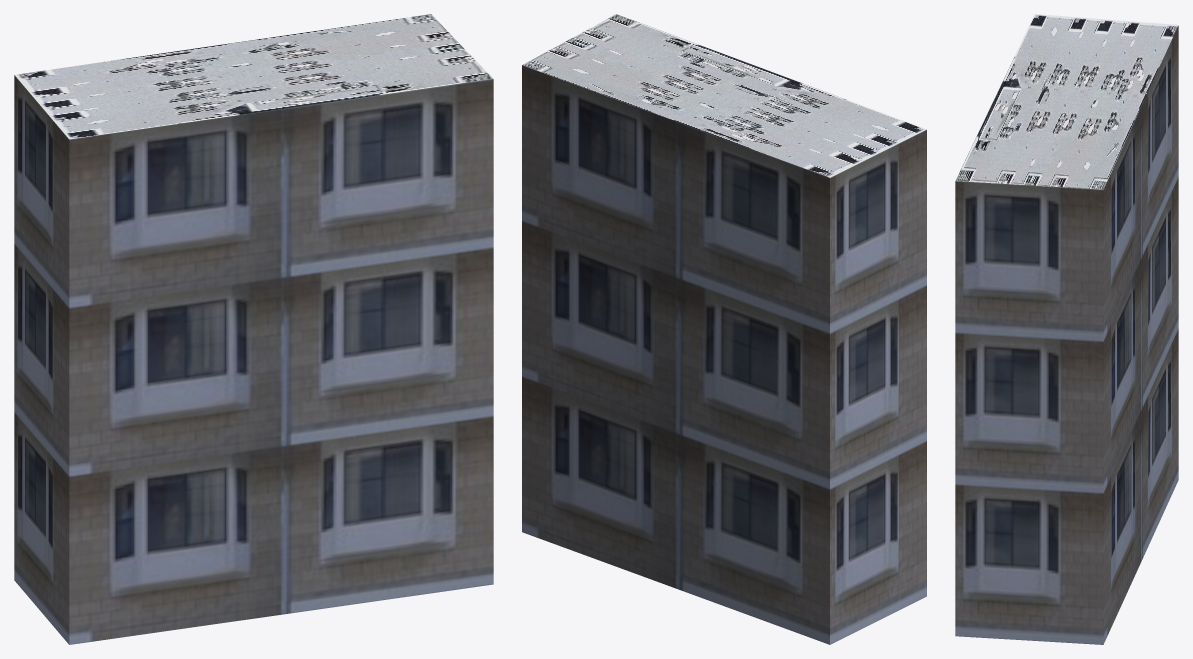
File: ResTex__2632.fbx
3 renders of one model, left to right at view 1: azimuth 30°, elevation 25°; view 2: azimuth 150°, elevation 25°; view 3: azimuth 270°, elevation 25°, orthographic. The views are drawn at different scales.
Parts seen in each view (by area): view 1: CityEngineMaterial_3_m, CityEngineMaterial_4_m; view 2: CityEngineMaterial_3_m, CityEngineMaterial_4_m; view 3: CityEngineMaterial_3_m, CityEngineMaterial_4_m.
Part boxes in pixels (x1,y1,x2,y2): CityEngineMaterial_3_m: [14, 75, 493, 644]; CityEngineMaterial_4_m: [15, 14, 492, 139]; CityEngineMaterial_3_m: [522, 65, 926, 644]; CityEngineMaterial_4_m: [522, 14, 926, 177]; CityEngineMaterial_3_m: [955, 25, 1178, 644]; CityEngineMaterial_4_m: [955, 14, 1178, 189].
Bounding box in the file's own units: 7.45 × 9 × 4.
Materials: 2 (2 with a texture image).
